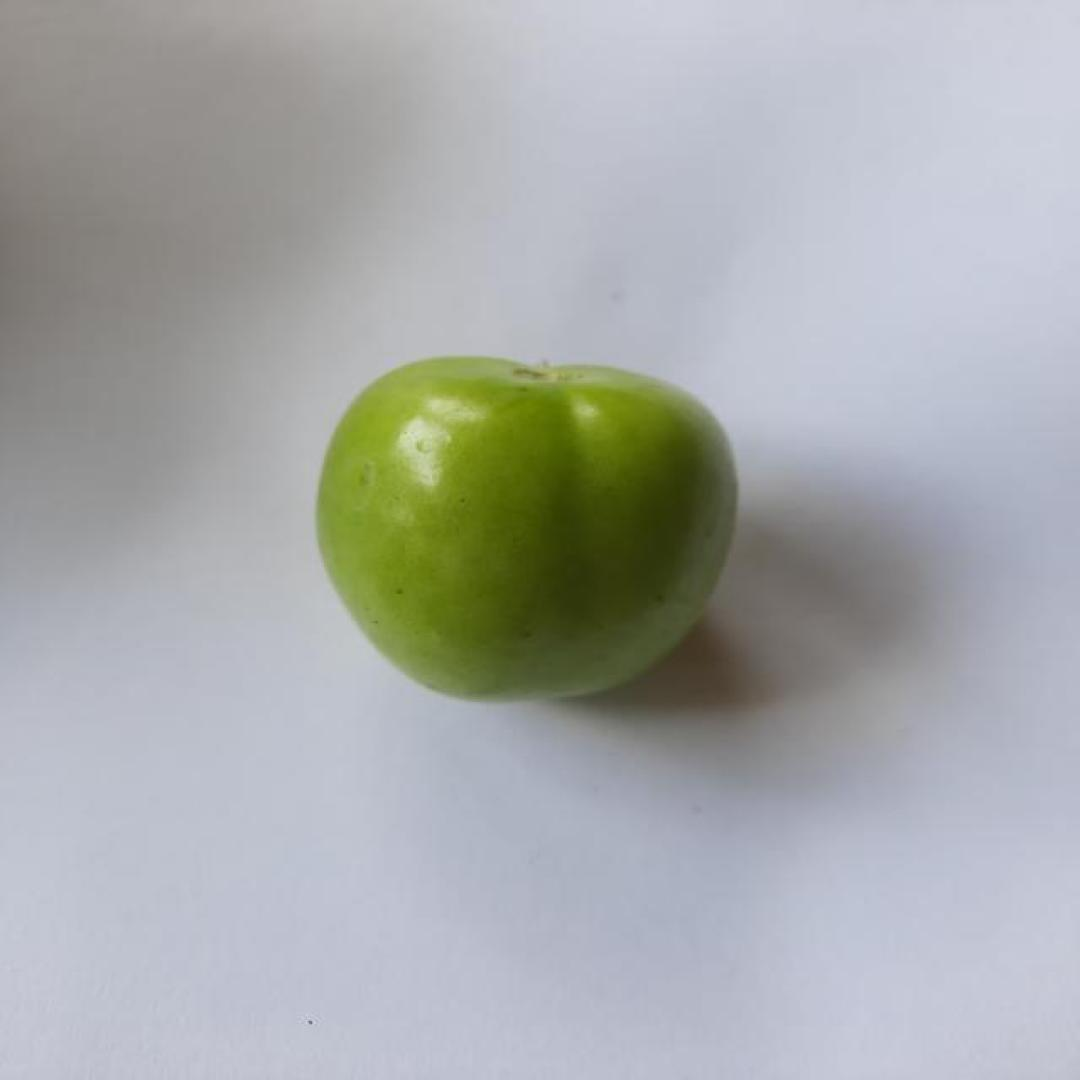mentah: (309, 354, 742, 706)
